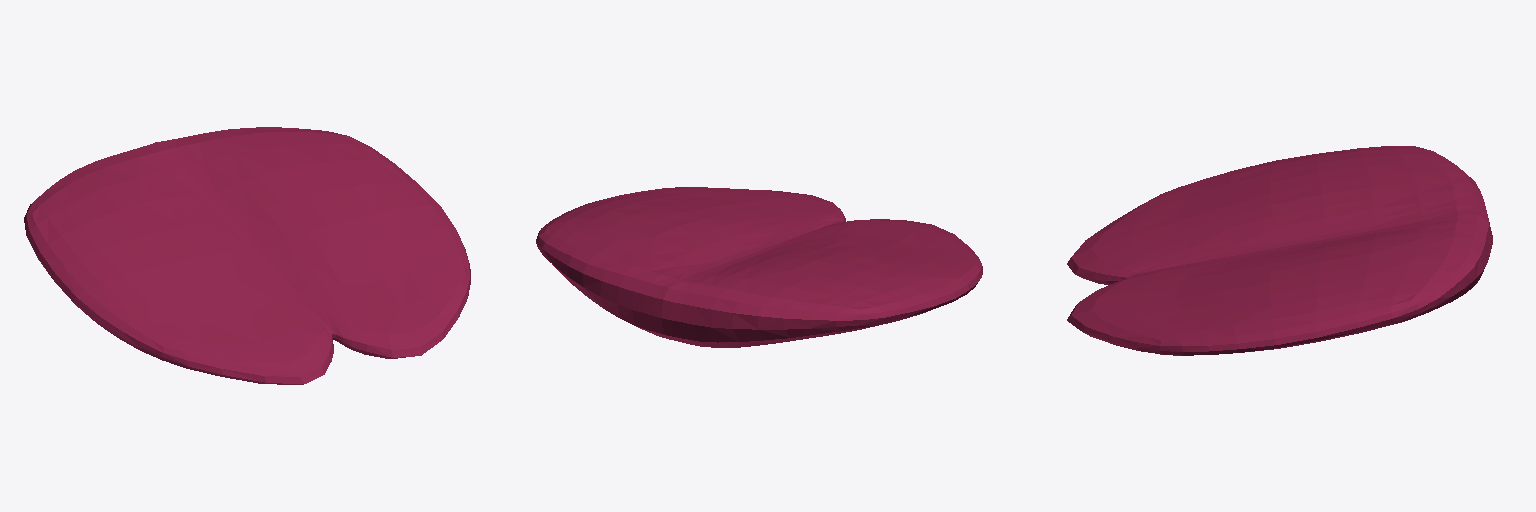
Rendered from lenguad1.obj.
The picture shows the model from 3 angles: view 1: azimuth 30°, elevation 25°; view 2: azimuth 150°, elevation 25°; view 3: azimuth 270°, elevation 25°; orthographic projection.
Visible parts, largest first — view 1: Tongue_001; view 2: Tongue_001; view 3: Tongue_001.
Part boxes in pixels (x1,y1,x2,y2): Tongue_001: (24, 127, 470, 384); Tongue_001: (536, 187, 982, 347); Tongue_001: (1067, 146, 1492, 355).
Bounding box in the file's own units: 0.0708 × 0.0154 × 0.0706.